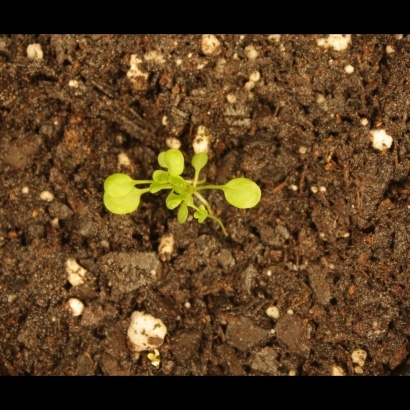leaf: (221, 174, 265, 214), (96, 183, 144, 218), (102, 169, 138, 199), (189, 147, 219, 175), (149, 141, 174, 172), (165, 149, 193, 176), (159, 194, 182, 219), (182, 191, 206, 214), (195, 202, 218, 225), (176, 202, 199, 225)
